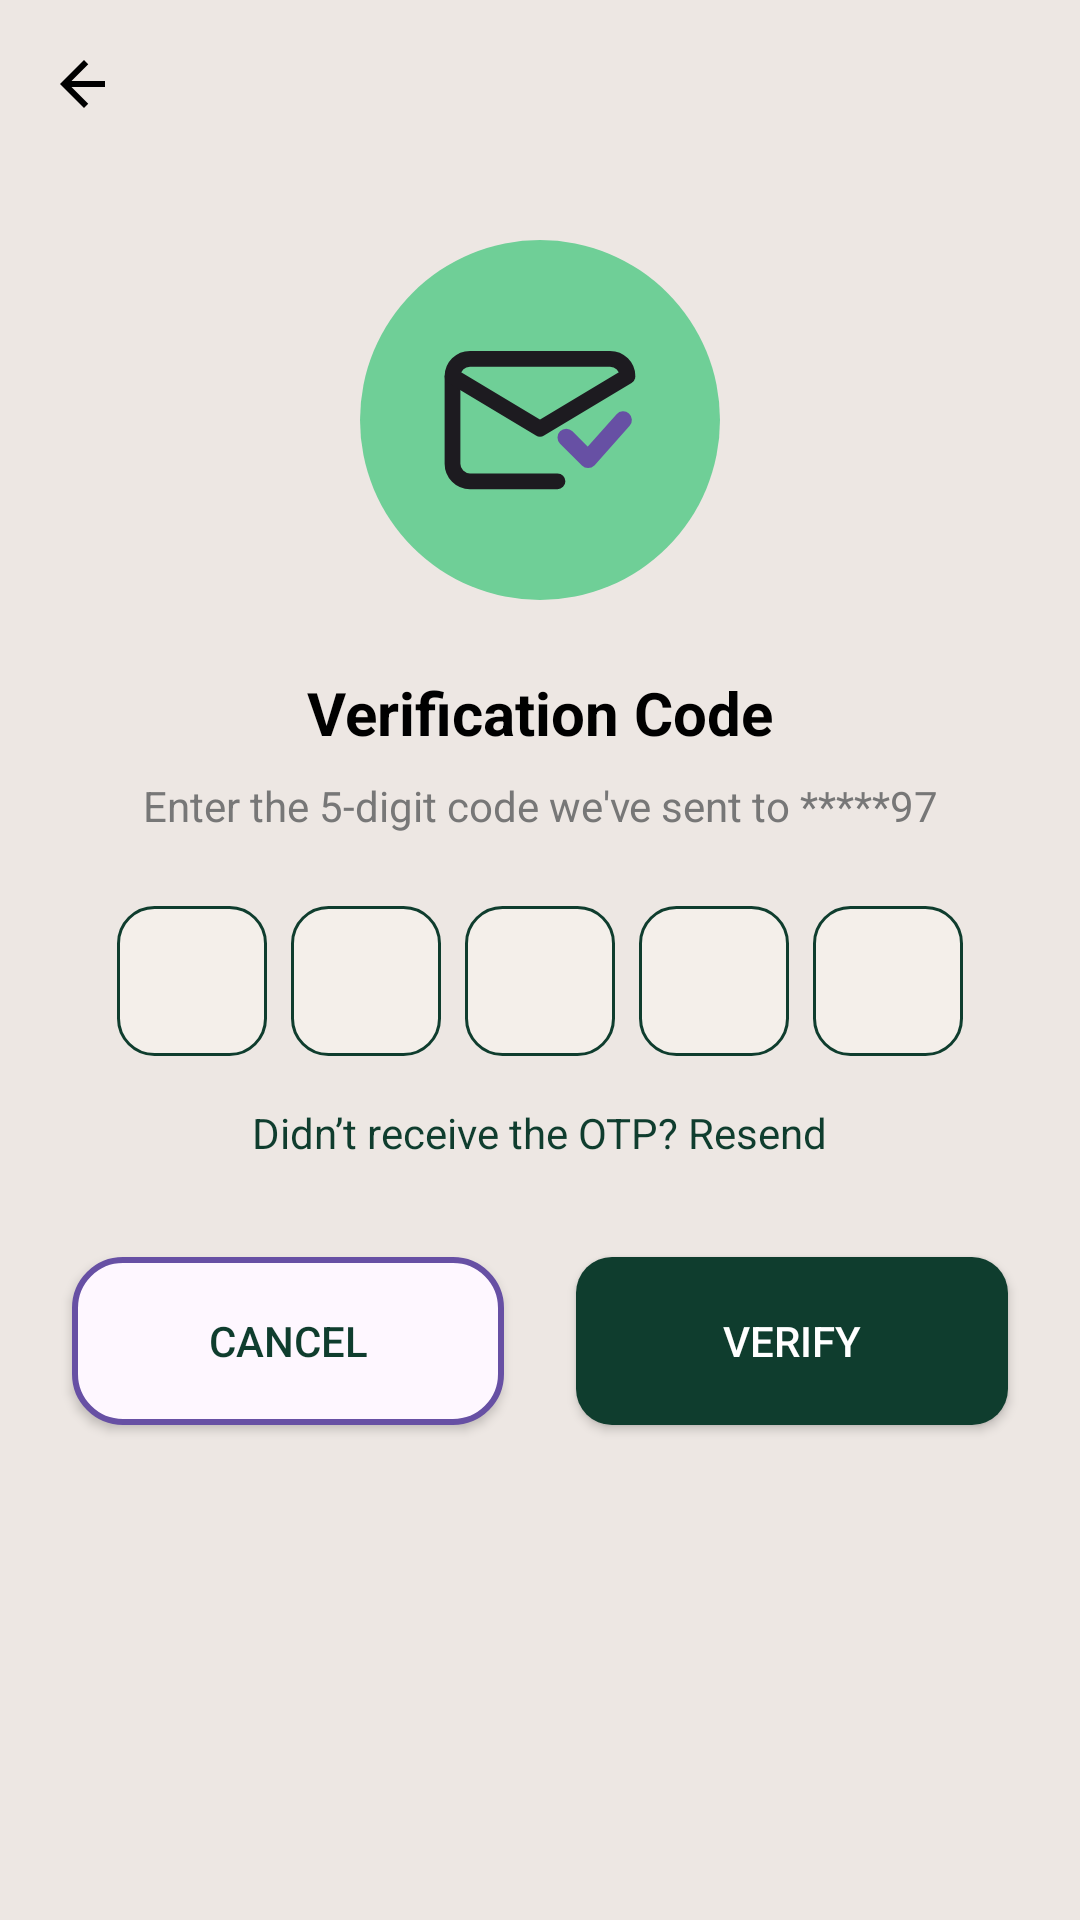

Icons on this 1080 × 1920 Android screen, each with the point to tap as (x,y):
back: (82,84)
mail check: (540,420)
